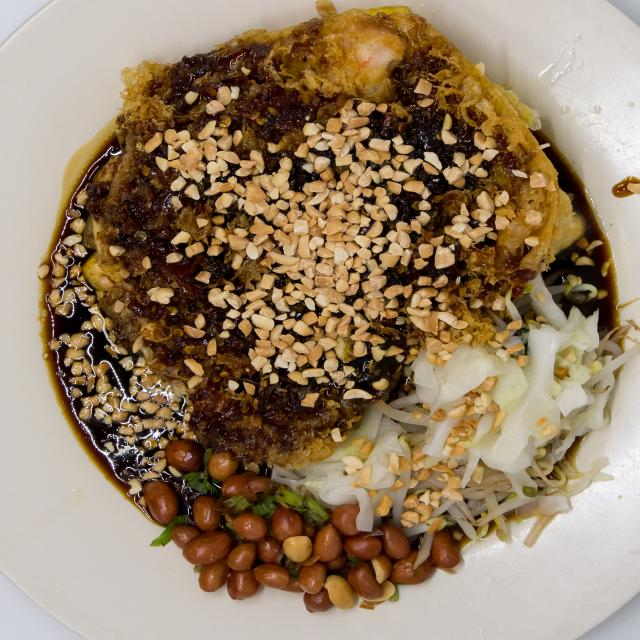Tahu-Telur: (48, 14, 590, 614)
